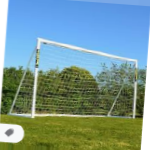goals: (10, 35, 142, 126)
